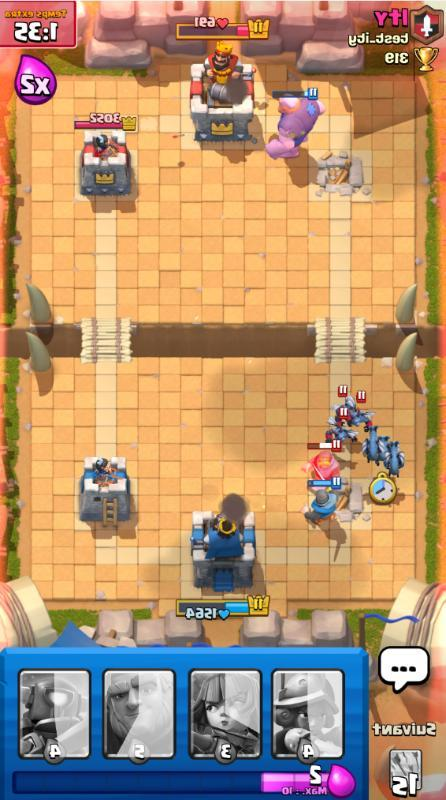chevalier: (301, 439, 342, 491), (300, 476, 341, 527)
gargouille: (346, 390, 377, 432), (325, 407, 360, 443), (330, 384, 355, 425), (362, 425, 383, 466), (384, 440, 404, 478), (378, 436, 390, 460)
geant: (265, 87, 326, 159)
